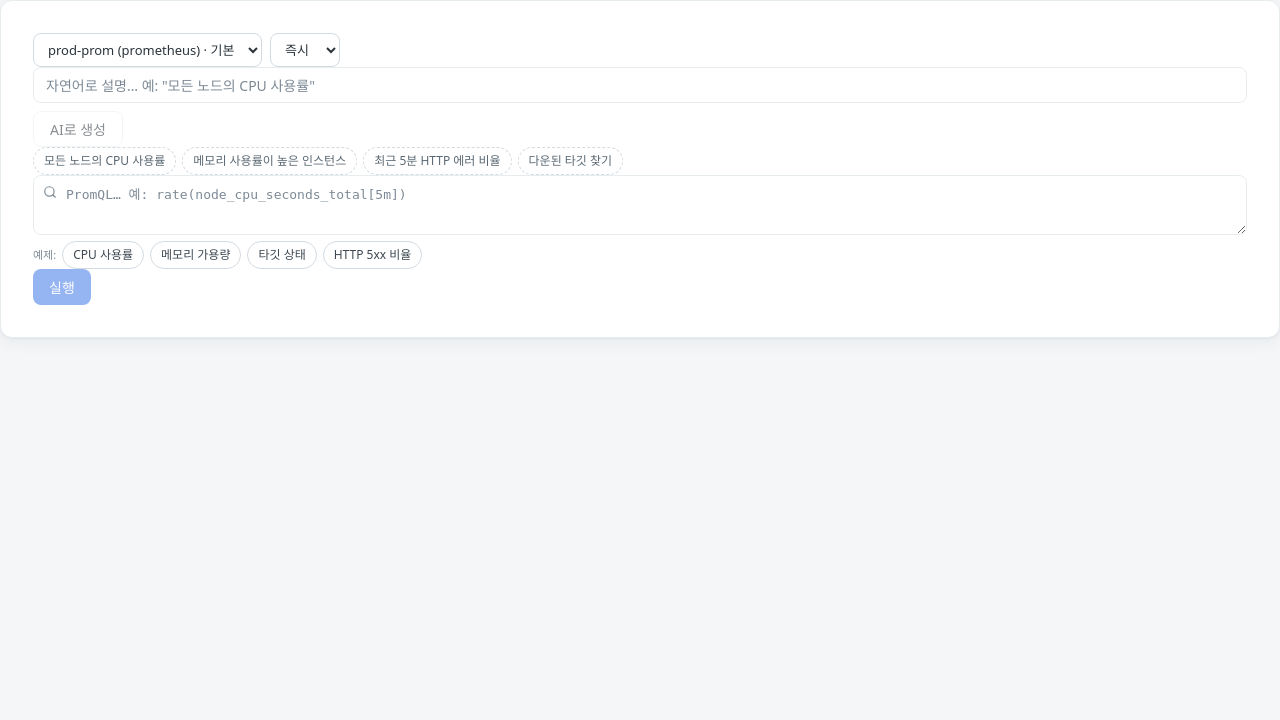
Test: ExplorePanel › a range (series) result renders AreaTrend, not the bar
Type "up" into the text box with placeholder "PromQL… 예: rate(node_cpu_seconds_total[5m])" at (640, 205), box [33,175,1247,235]
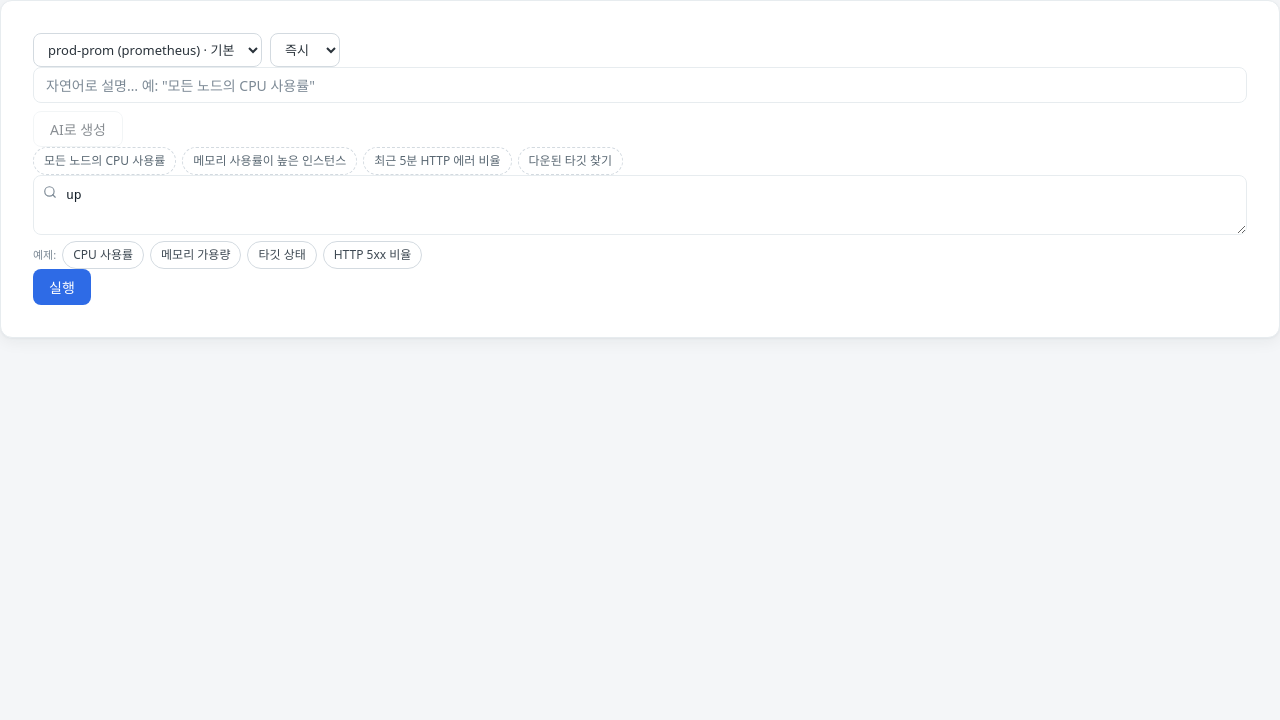
Select "1h" in the dropdown named "범위" at (305, 50), box [270,33,340,67]
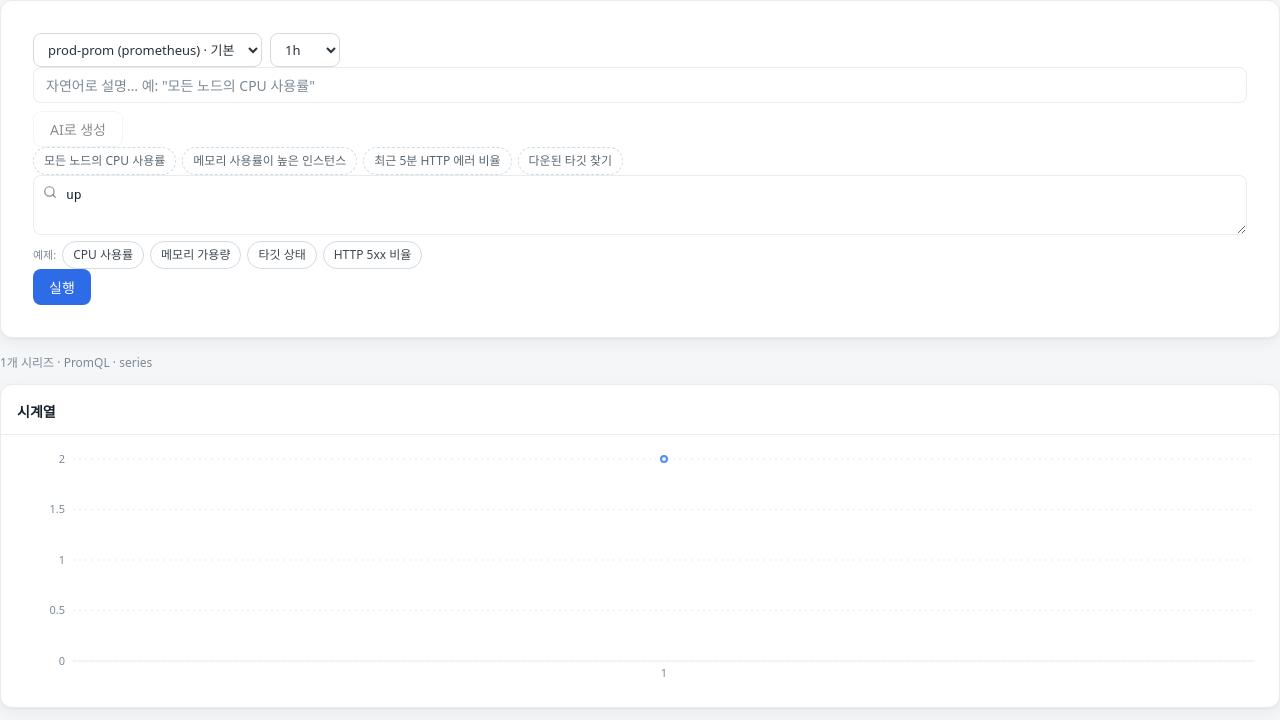
Expected: the text "시계열" is shown, [17,401,56,422]
